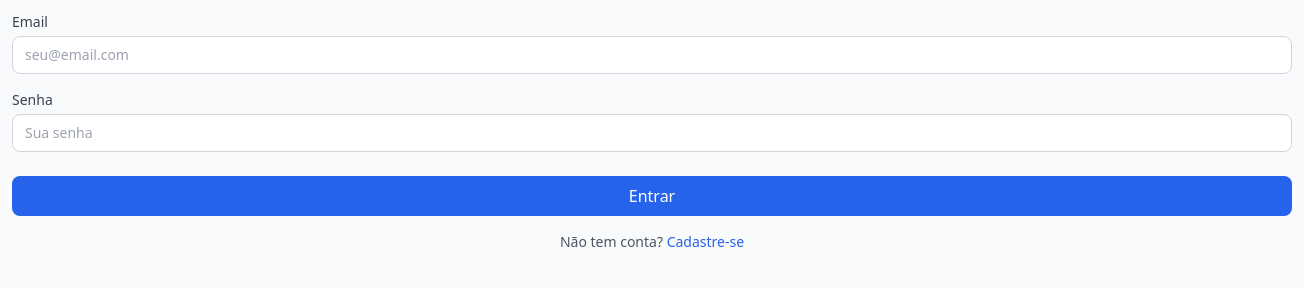
Test: LoginForm › deve exibir erro quando password tem menos de 8 caracteres
The width and height of the screenshot is (1304, 288).
Type "test@test.com" into the field labelled "Email" at (652, 55), box top-left (12, 36), bottom-right (1292, 74)
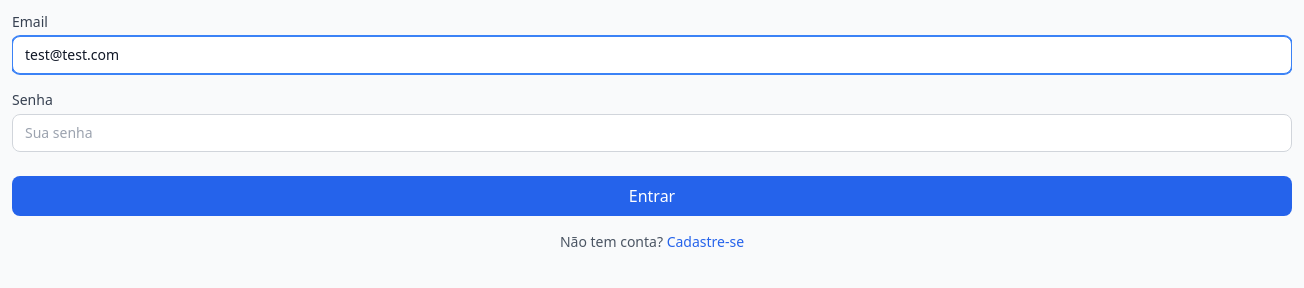
Type "1234567" into the password field labelled "Senha" at (652, 133), box top-left (12, 114), bottom-right (1292, 152)
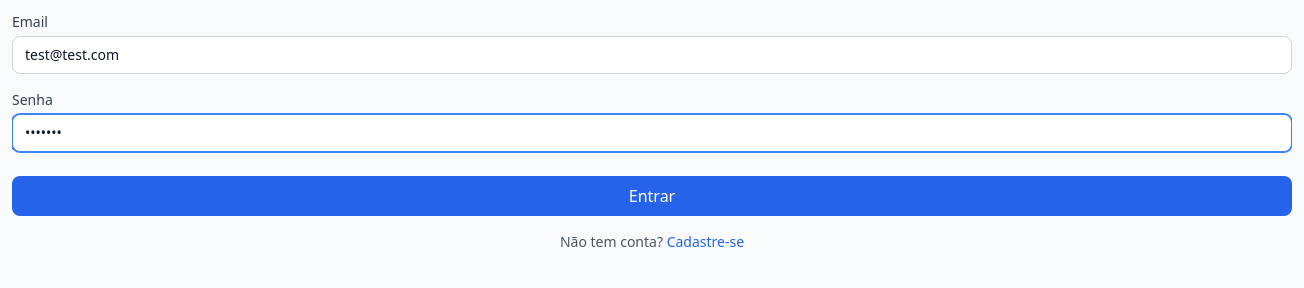
Click the button "Entrar" at (652, 196), box top-left (12, 176), bottom-right (1292, 216)
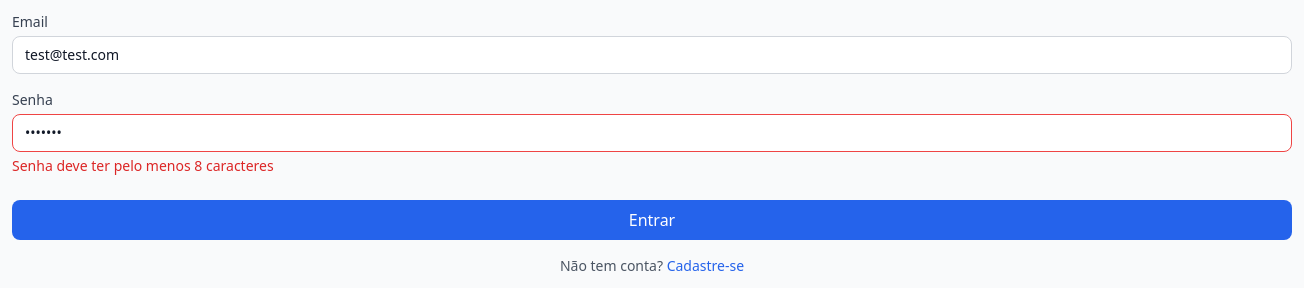
Check: the text "Senha deve ter pelo menos 8 caracteres" is shown, box top-left (12, 156), bottom-right (274, 175)
